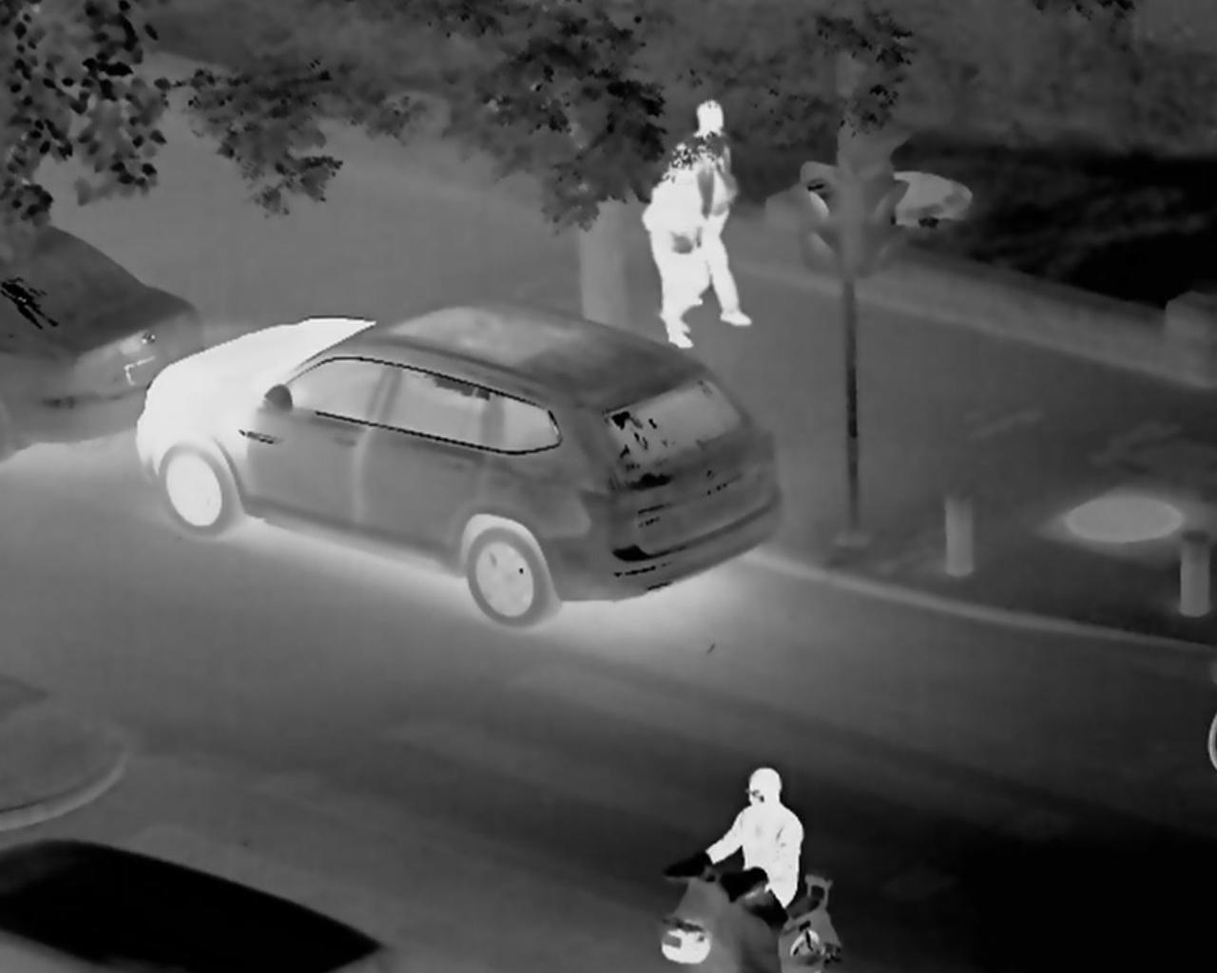person: (660, 106, 760, 364), (703, 744, 799, 909)
